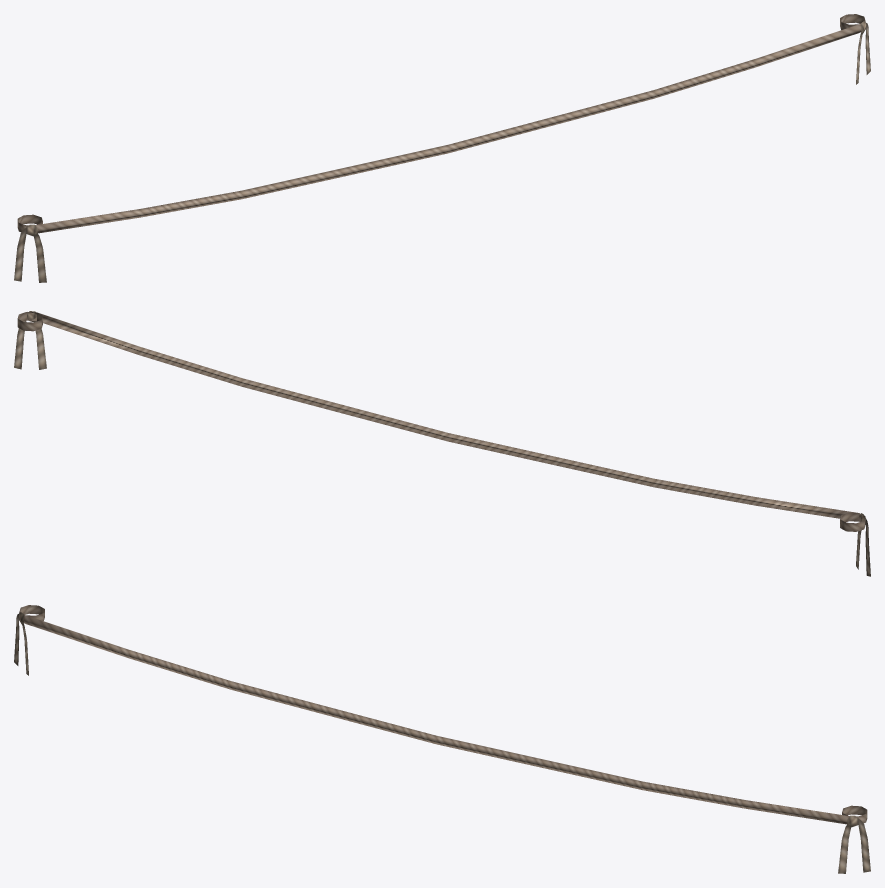
The model's file is jsf_4P_String_s01_02.fbx.
The picture shows the model from 3 angles, top to bottom: view 1: azimuth 30°, elevation 25°; view 2: azimuth 150°, elevation 25°; view 3: azimuth 330°, elevation 25°; orthographic projection.
Parts seen in each view (by area): view 1: jsf_4P_String_s01_02; view 2: jsf_4P_String_s01_02; view 3: jsf_4P_String_s01_02.
Part boxes in pixels (x1,y1,x2,y2): jsf_4P_String_s01_02: (14,14,870,282); jsf_4P_String_s01_02: (14,311,870,576); jsf_4P_String_s01_02: (14,605,870,873).
Size of the model in its own units: 151 by 9.85 by 5.
